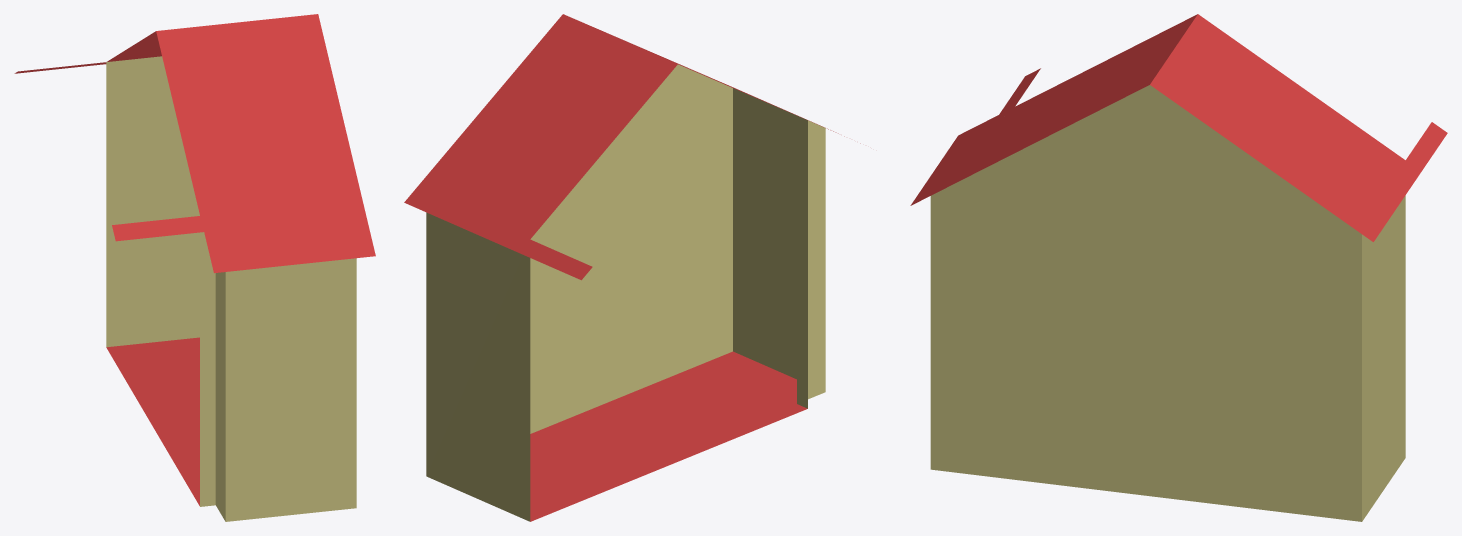
3 views of the same model, side by side, from view 1: azimuth 30°, elevation 25°; view 2: azimuth 150°, elevation 25°; view 3: azimuth 270°, elevation 25° (orthographic). The views are drawn at different scales.
Bounding box in the file's own units: 11.39 × 16.11 × 13.85.
